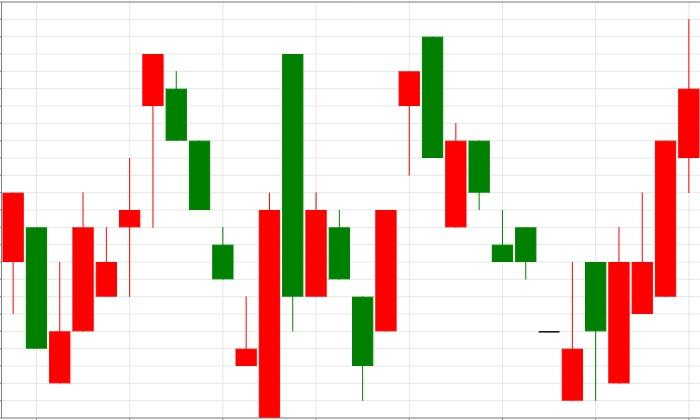hanging_man_fall: (49, 53, 164, 383)
inverse_hammer_rise: (422, 36, 583, 401)
